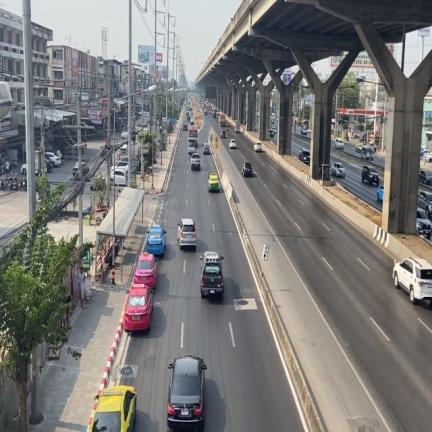car: (167, 356, 206, 429), (393, 258, 431, 303), (200, 252, 223, 297), (177, 218, 196, 248), (362, 165, 379, 186), (418, 191, 431, 217), (241, 162, 252, 176), (191, 153, 199, 170)
motorbike: (9, 174, 19, 190)
taxi: (90, 385, 136, 431), (124, 284, 154, 331), (134, 252, 157, 287), (146, 225, 165, 256), (208, 173, 219, 192)
